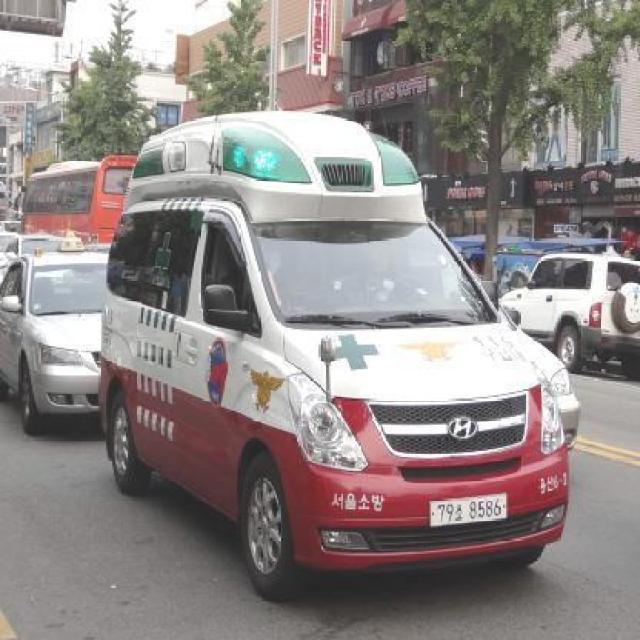emergency: (95, 108, 580, 600)
